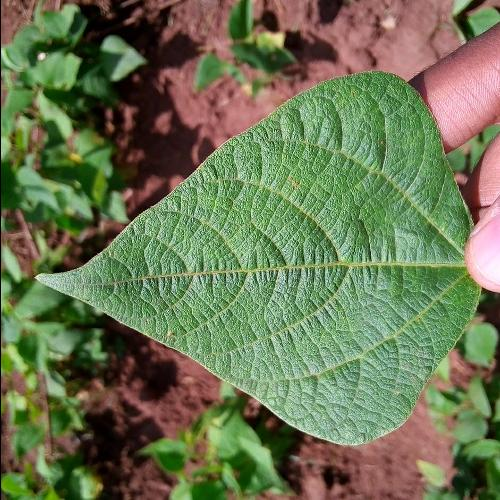embun tepung: (178, 236, 435, 342)
hawar: (282, 164, 312, 213)
